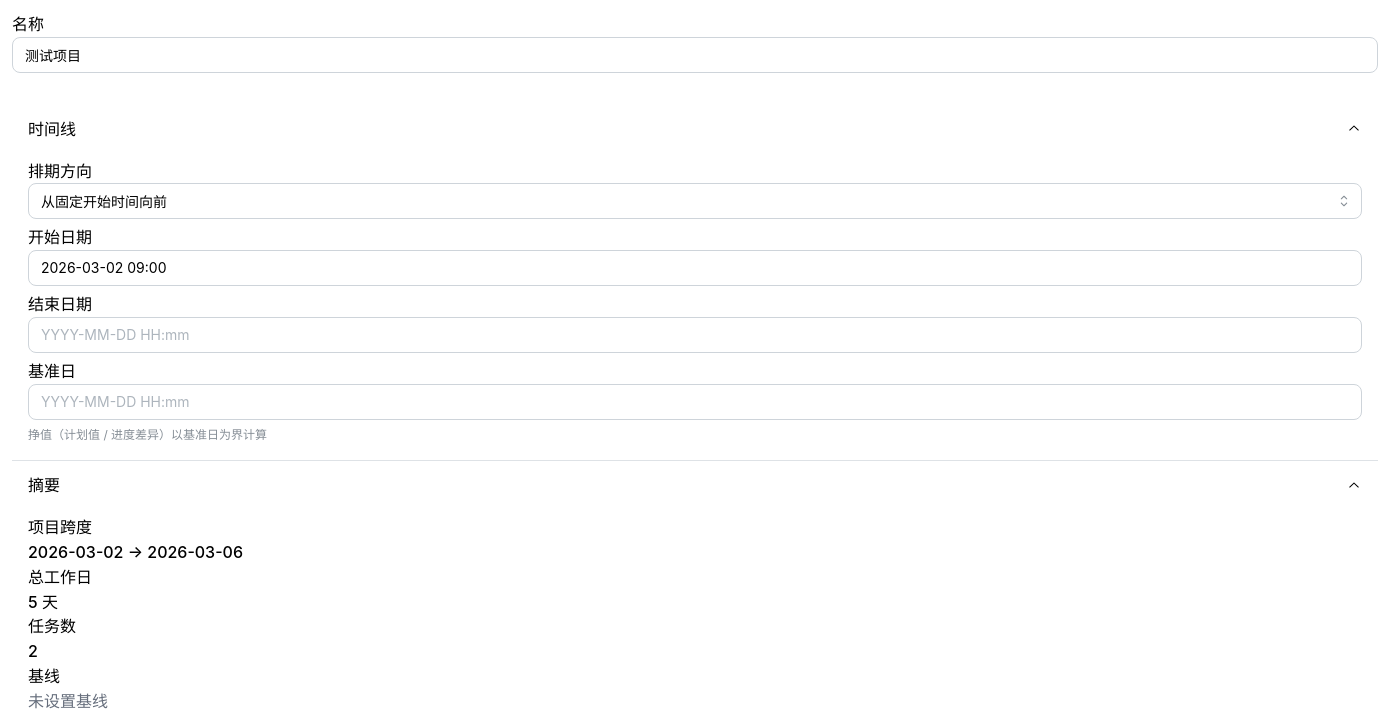
Scenario: ProjectInspector › forward 下开始日期可编辑；backward 下只读并说明（偏差 4）
The width and height of the screenshot is (1390, 716).
Expected: the button named "开始日期" is enabled, [28,250,1362,286]
Click the dropdown labelled "排期方向". click: (695, 201)
box: [28,183,1362,219]
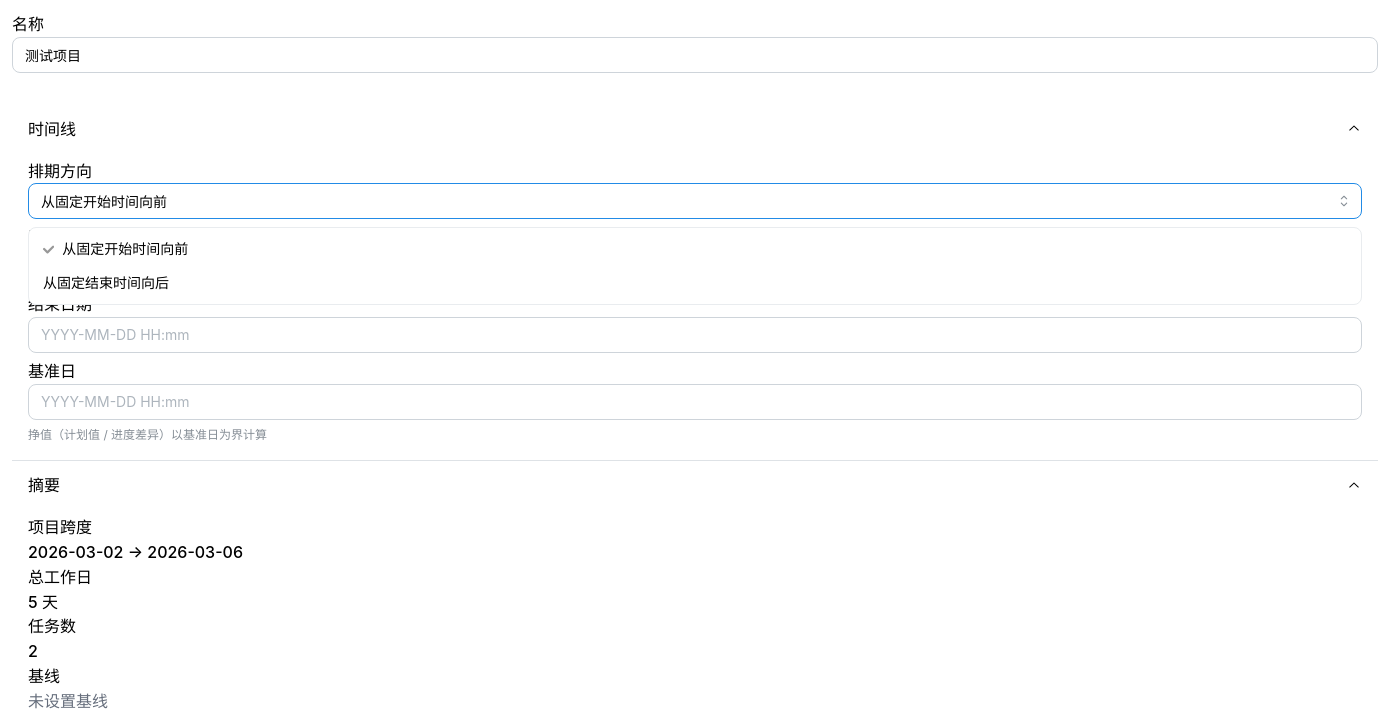
Click the option "从固定结束时间向后". click: (106, 283)
box: [43,274,169,291]
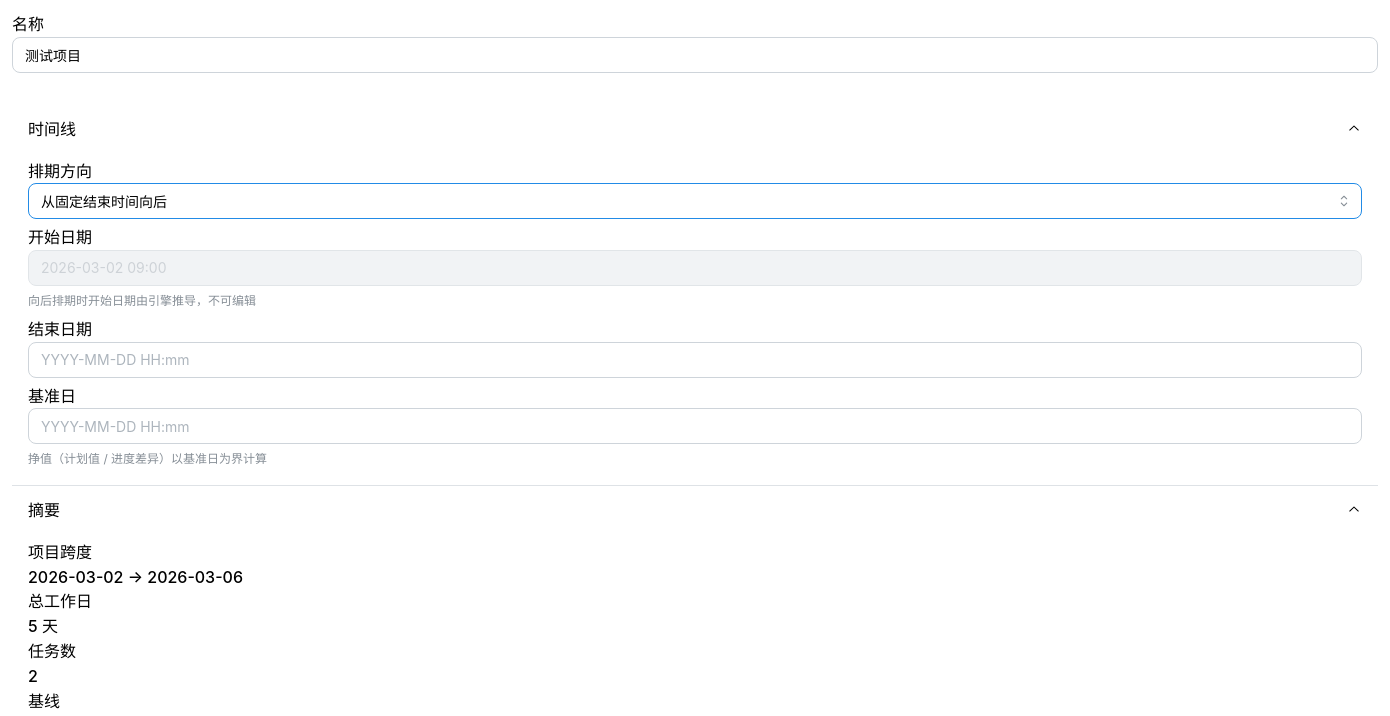
Expected: the button named "结束日期" is enabled, [28,342,1362,378]
Expected: the button named "开始日期" is disabled, [28,250,1362,286]
Expected: the text "向后排期时开始日期由引擎推导，不可编辑" is shown, [28,293,256,308]
